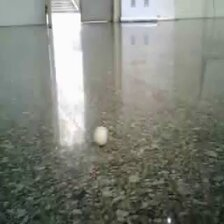w: (93, 126, 110, 146)
